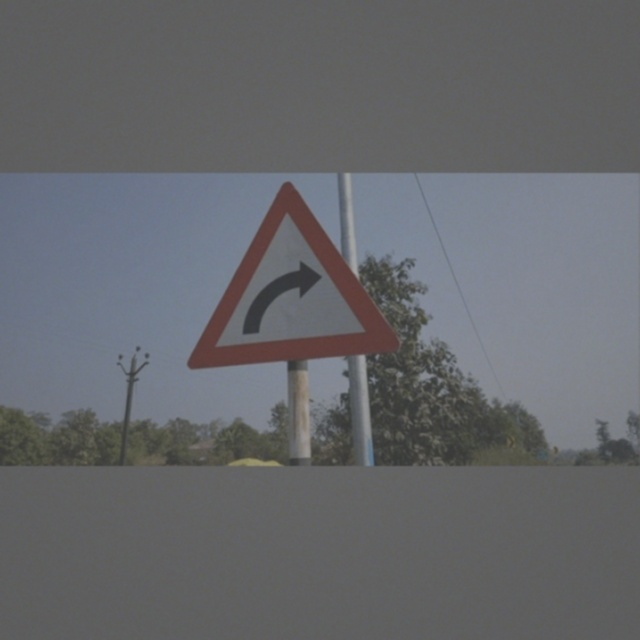Right_Hand_Curve: (196, 180, 396, 372)
